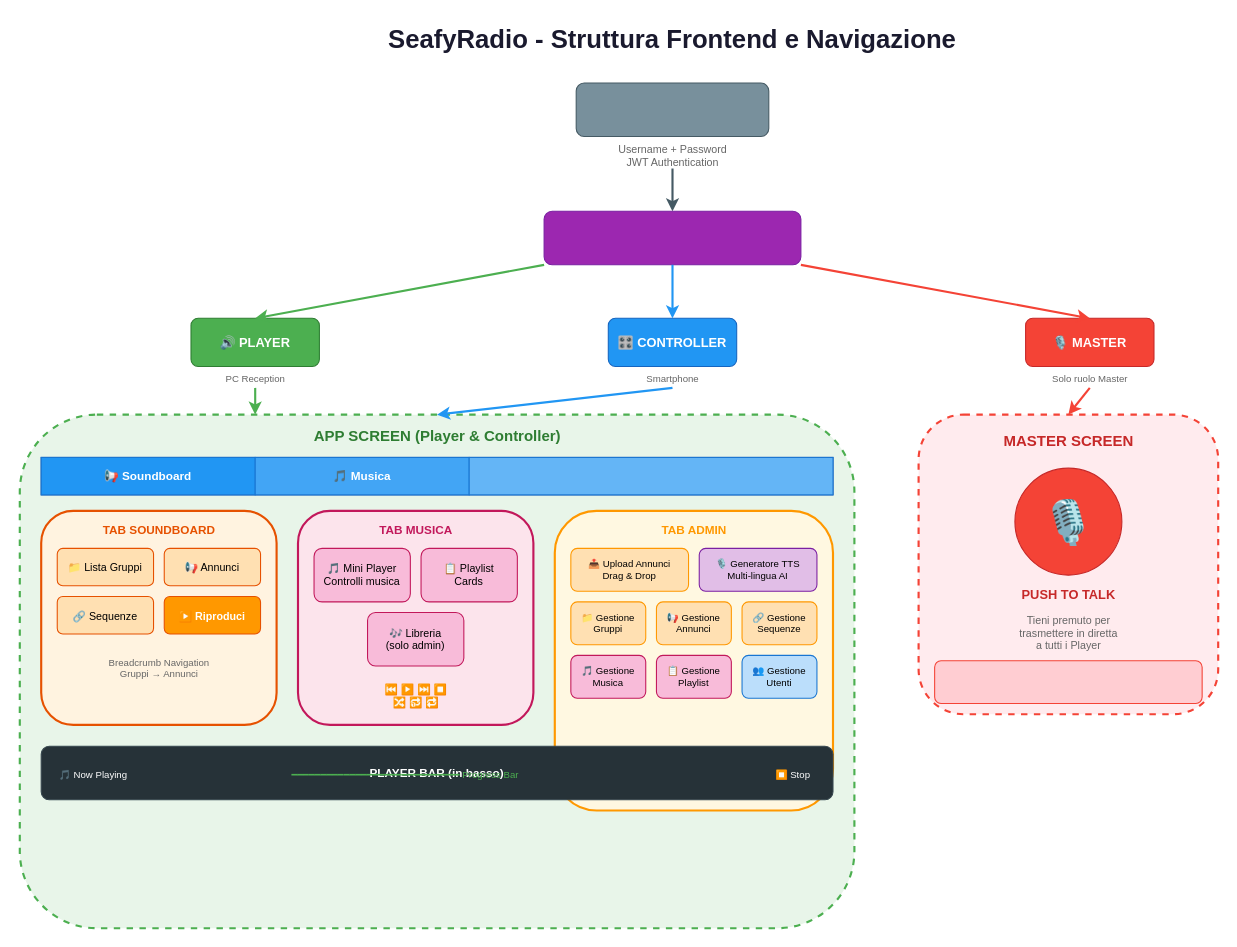
Some shapes in this 1237 by 947 pixel diagram are drawn without their labels. Here are the shapes that lost their labels. From the top down, the centre of each, then its label:
point (672, 109): 🔐 LOGIN SCREEN
point (672, 237): SELEZIONE MODALITÀ
point (650, 475): ⚙️ Admin (solo admin)
point (1068, 682): 🔴 Durante la trasmissione tutti i Player mostrano overlay EMERGENZA
